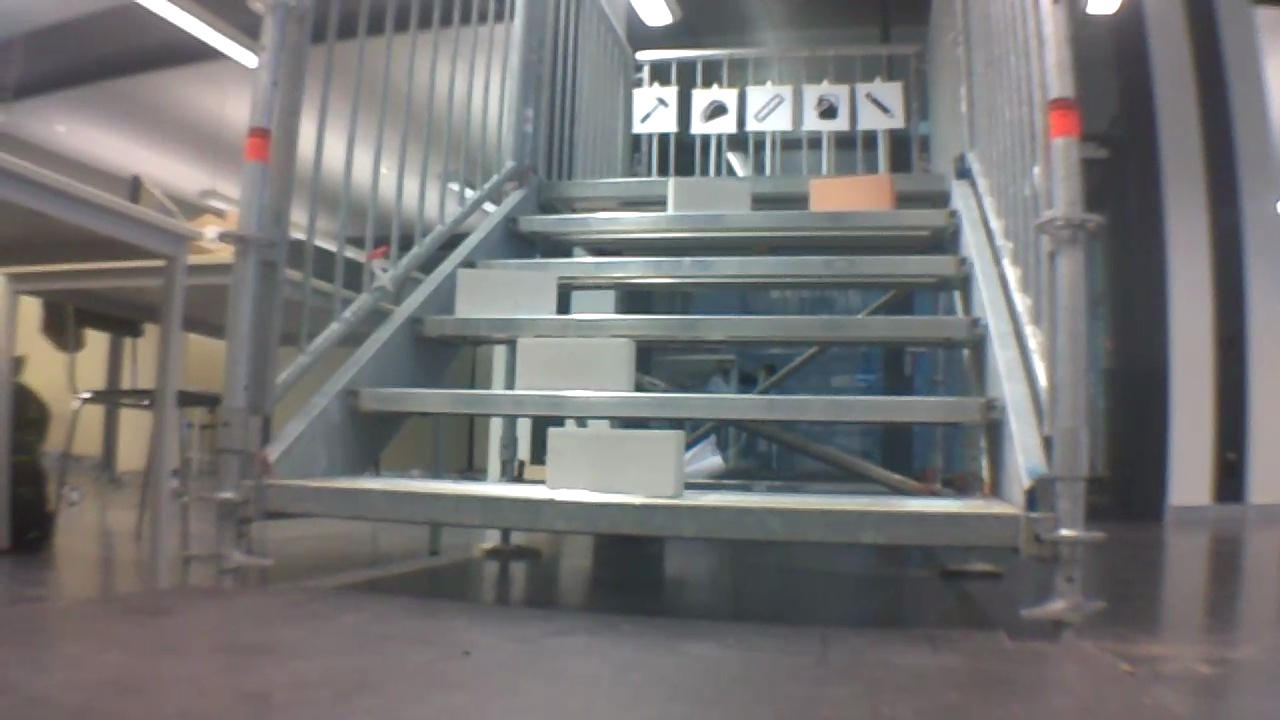brick: (548, 430, 686, 498), (516, 338, 634, 391), (456, 270, 558, 317), (666, 179, 749, 212), (810, 177, 892, 210)
bucket: (809, 88, 844, 127)
edge: (264, 486, 1014, 544), (347, 389, 1006, 421), (414, 317, 983, 339), (468, 257, 974, 277), (507, 210, 956, 230), (534, 175, 953, 194)
hammer: (634, 94, 671, 128)
pencil: (858, 88, 903, 124)
ruler: (751, 94, 785, 127)
stairs: (208, 2, 1088, 645)
steps: (259, 169, 1019, 559)
taco: (700, 96, 734, 127)
